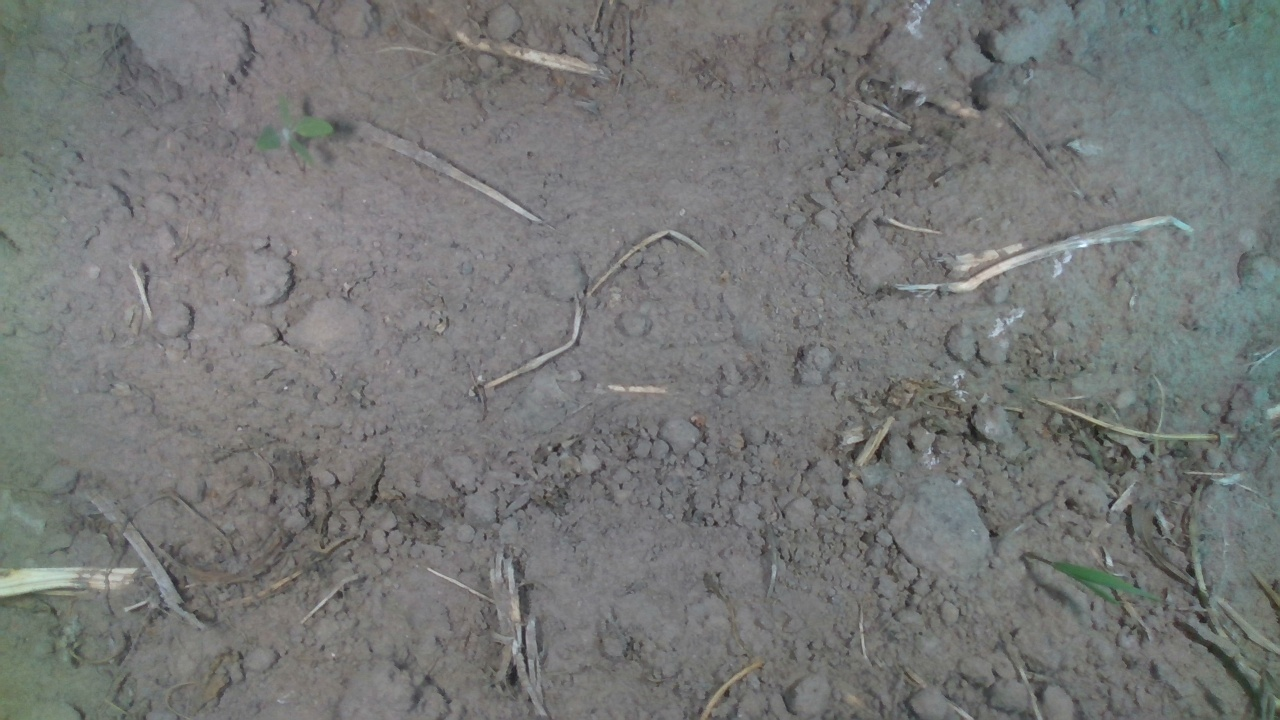weed: (254, 89, 336, 172)
